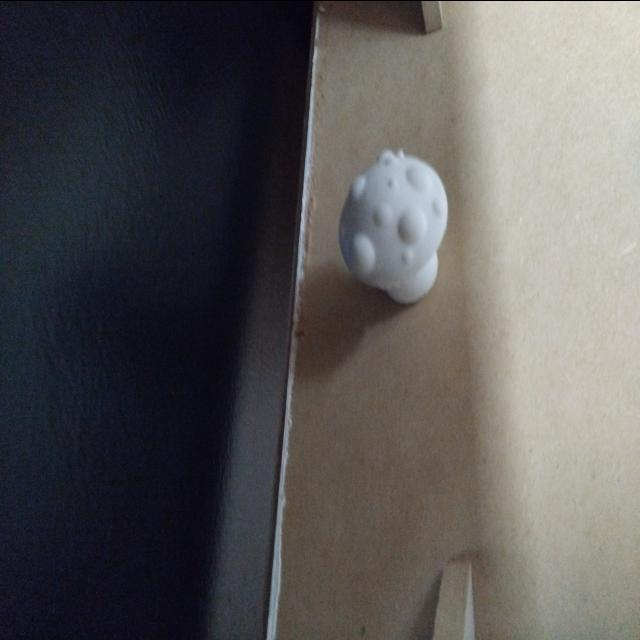Hongo: (333, 140, 455, 312)
